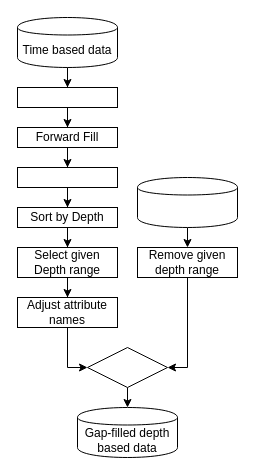
This 255x475 diagram has some shape labels left out. The centre of each missing label's shape, as x and y in pixels:
Depth based data: point 187,202
Merge: point 127,367
Select time range: point 67,177
Sort by Time: point 67,97
